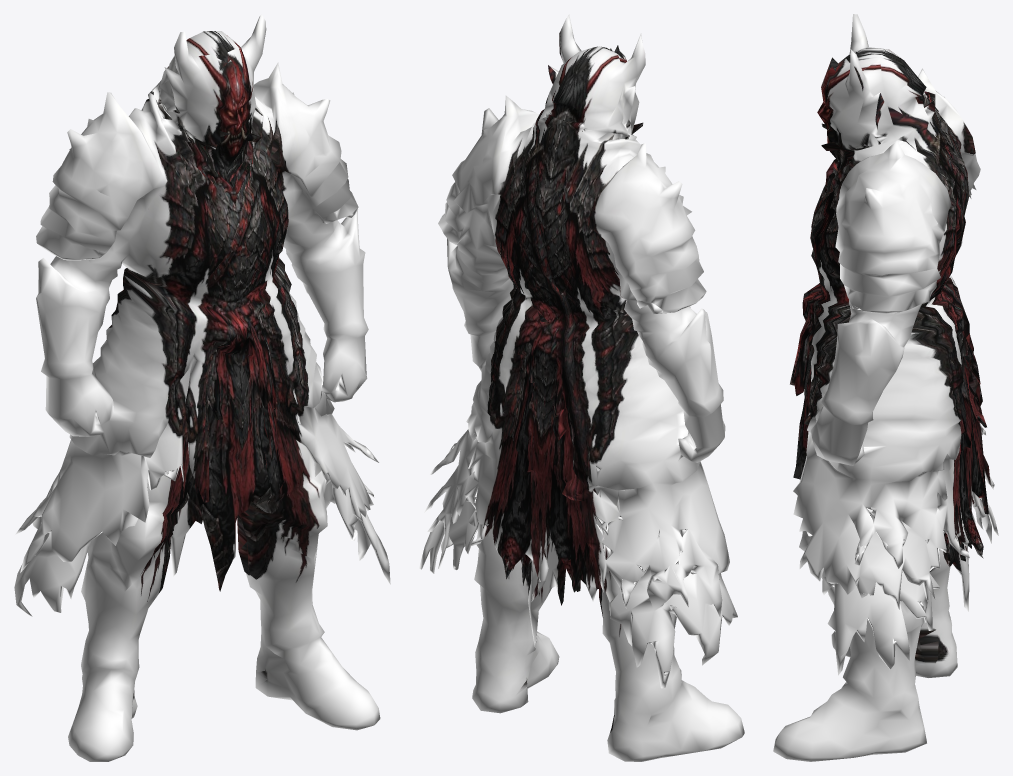
The model's file is assassin.glb.
The picture shows the model from 3 angles, left to right: view 1: azimuth 30°, elevation 25°; view 2: azimuth 150°, elevation 25°; view 3: azimuth 270°, elevation 25°; orthographic projection. The views are drawn at different scales.
Parts seen in each view (by area): view 1: world; view 2: world; view 3: world.
Part boxes in pixels (box(x1,y1,x2,y2)): world: box(14, 14, 390, 761); world: box(419, 14, 744, 761); world: box(773, 14, 998, 761).
Bounding box in the file's own units: 0.8695 × 1.8 × 0.5485.
Materials: 1 (1 with a texture image).
